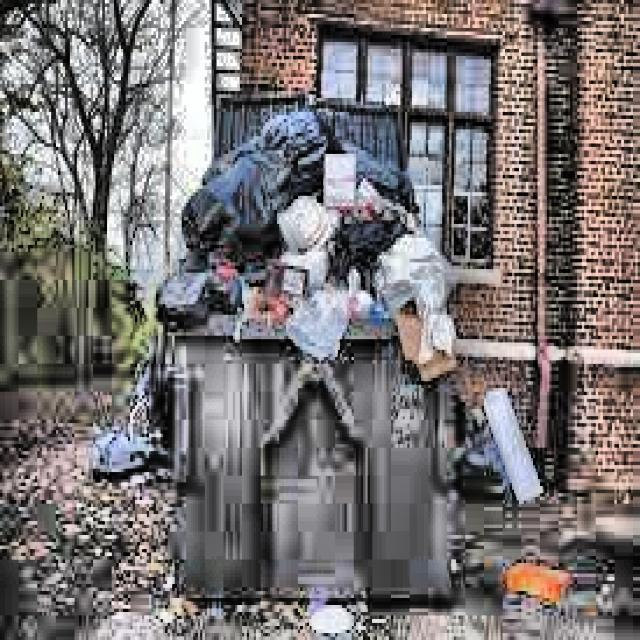garbage: (154, 108, 463, 340)
